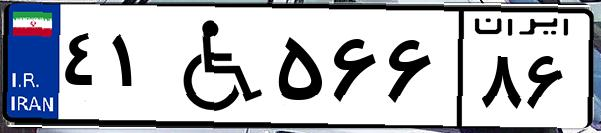1: (110, 28, 158, 98)
4: (57, 26, 110, 100)
5: (270, 28, 330, 110)
6: (385, 28, 445, 110), (330, 28, 385, 110), (525, 38, 570, 115)
8: (475, 38, 525, 113)
ژ (معلولین و جانبازان): (158, 12, 270, 120)
